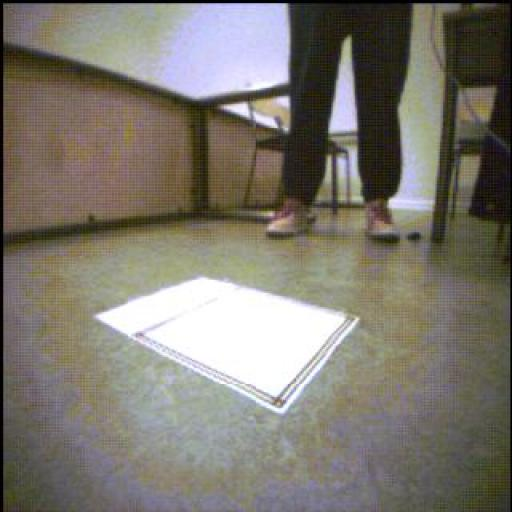Pad: (97, 278, 359, 415)
